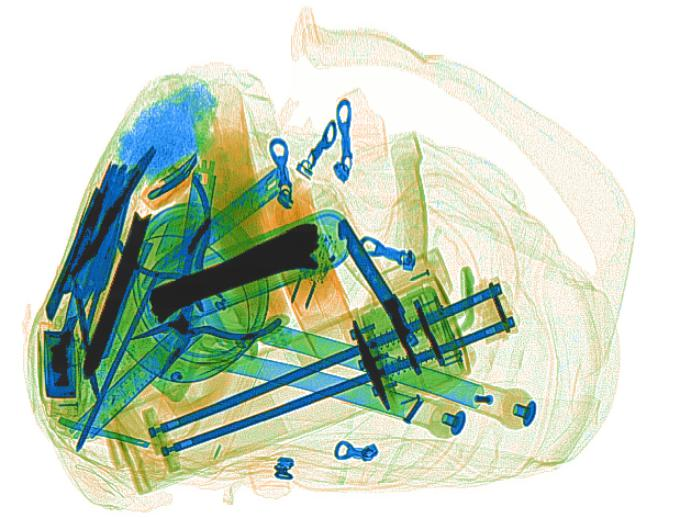knife: (67, 316, 203, 441)
